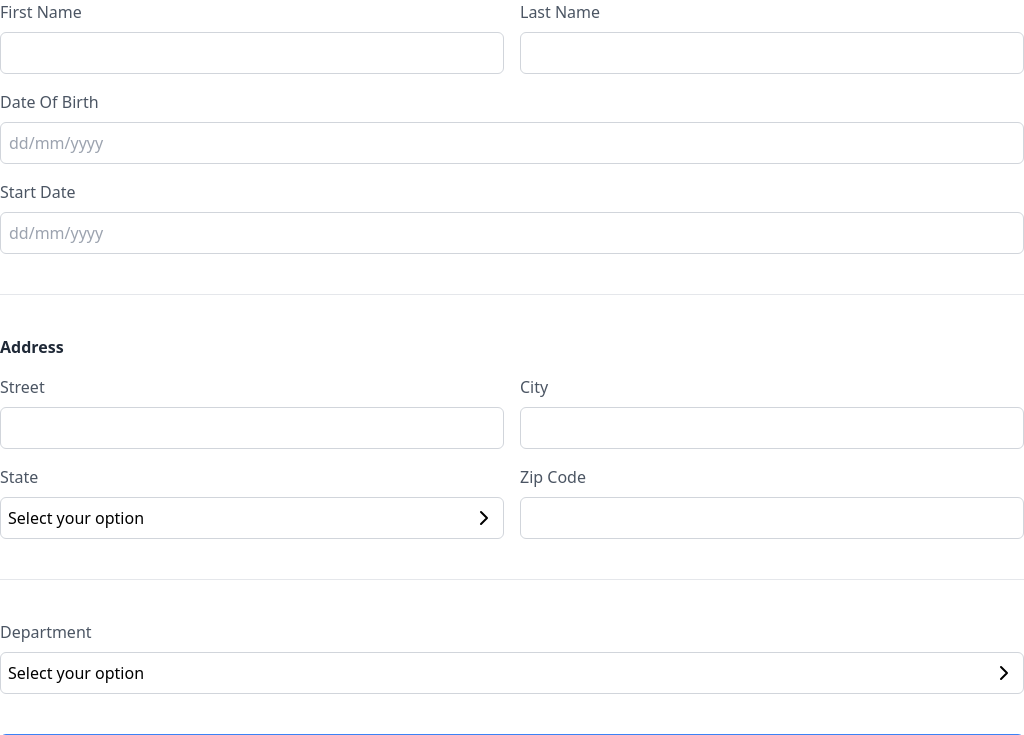
Test case: CreateEmployeeForm Component › CreateEmployeeFormInputSelect component › Should display an error message if left empty
Click the field with test id "dropdownInput" below "State": (252, 518) x1=0 y1=497 x2=504 y2=539
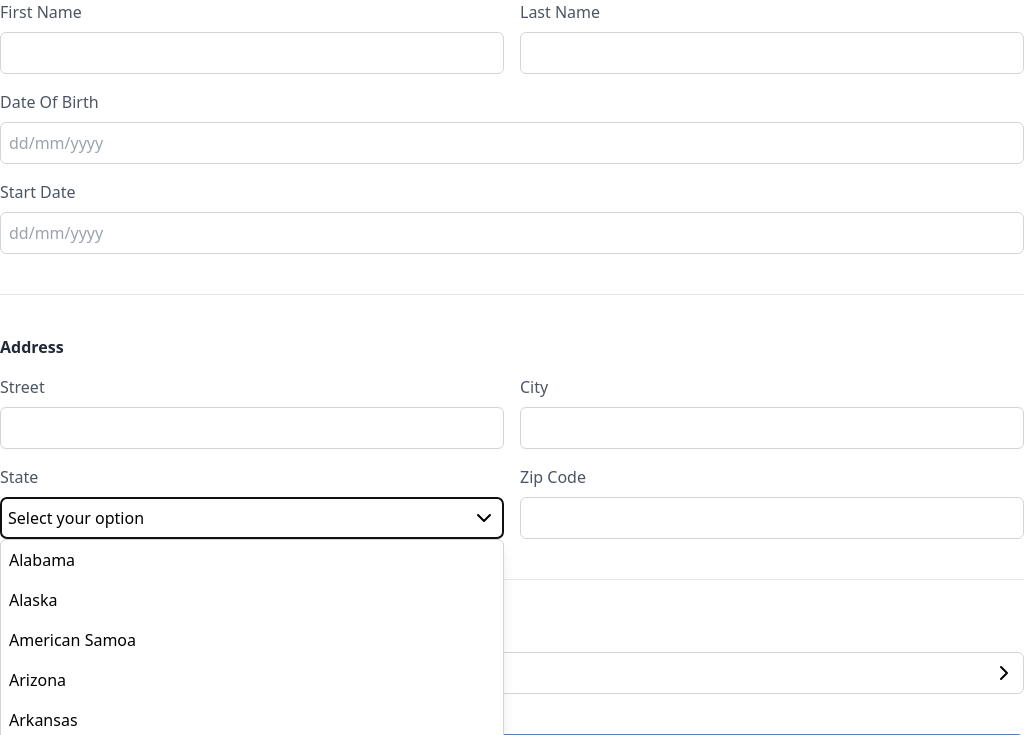
Press Tab
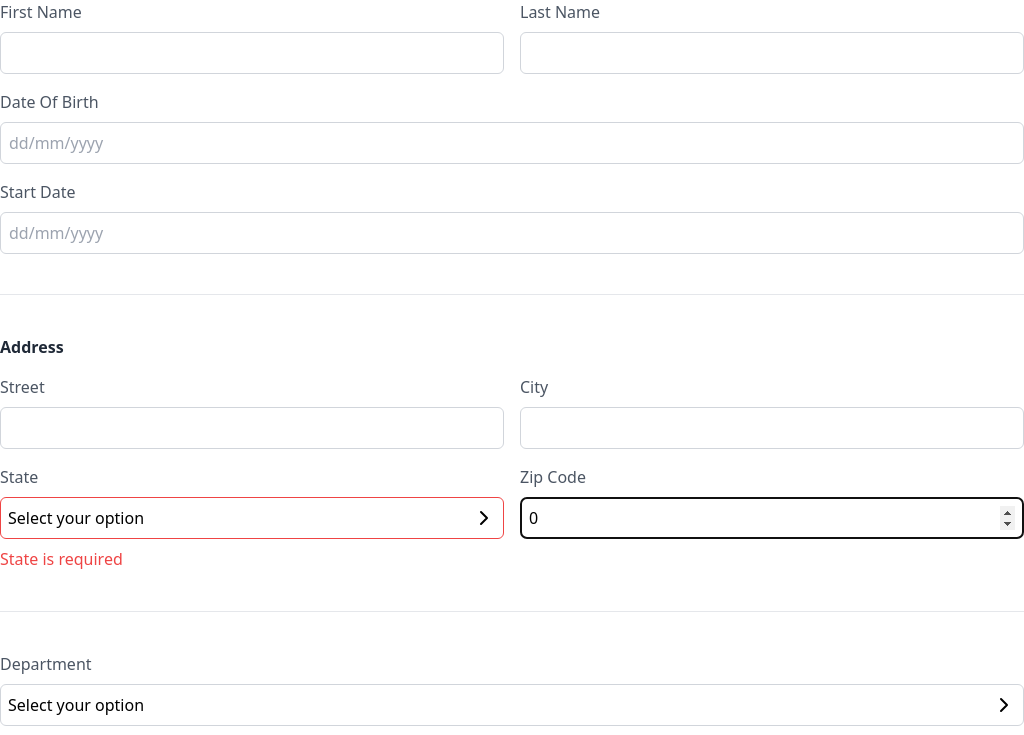
Expected: the text "State is required" is shown, x1=0 y1=548 x2=123 y2=570
